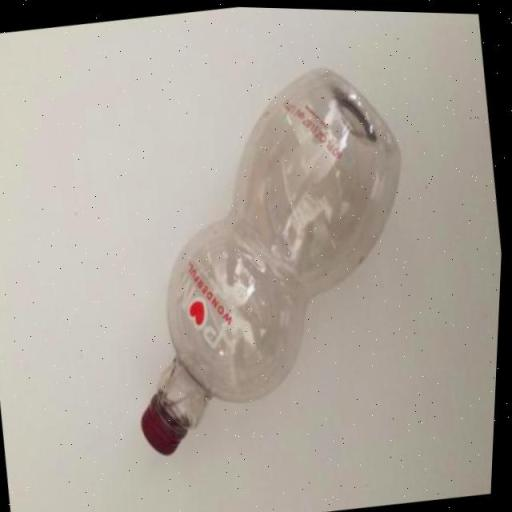plastic: (90, 48, 445, 470)
